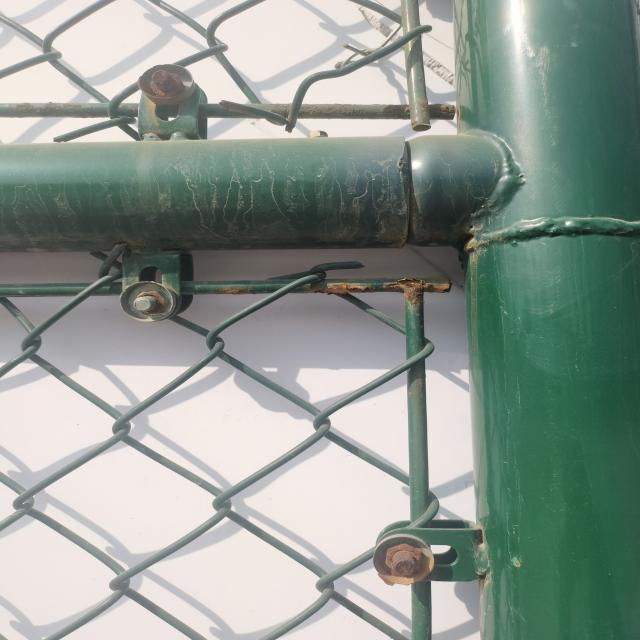bolt nut: (384, 542, 425, 574), (148, 72, 187, 99), (134, 289, 171, 316)
bolt side: (306, 130, 330, 138)
